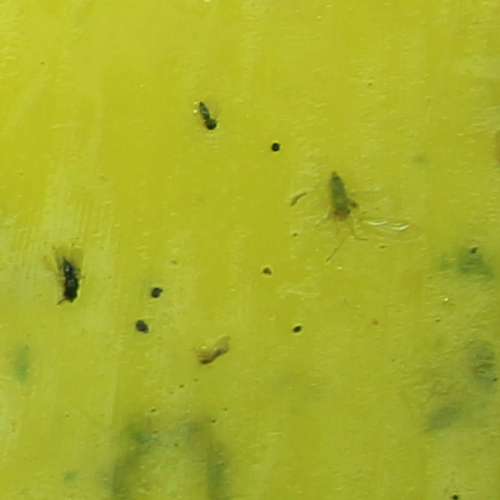Glycaspis: (325, 173, 355, 226)
Psyllaephagus: (59, 259, 81, 307)
